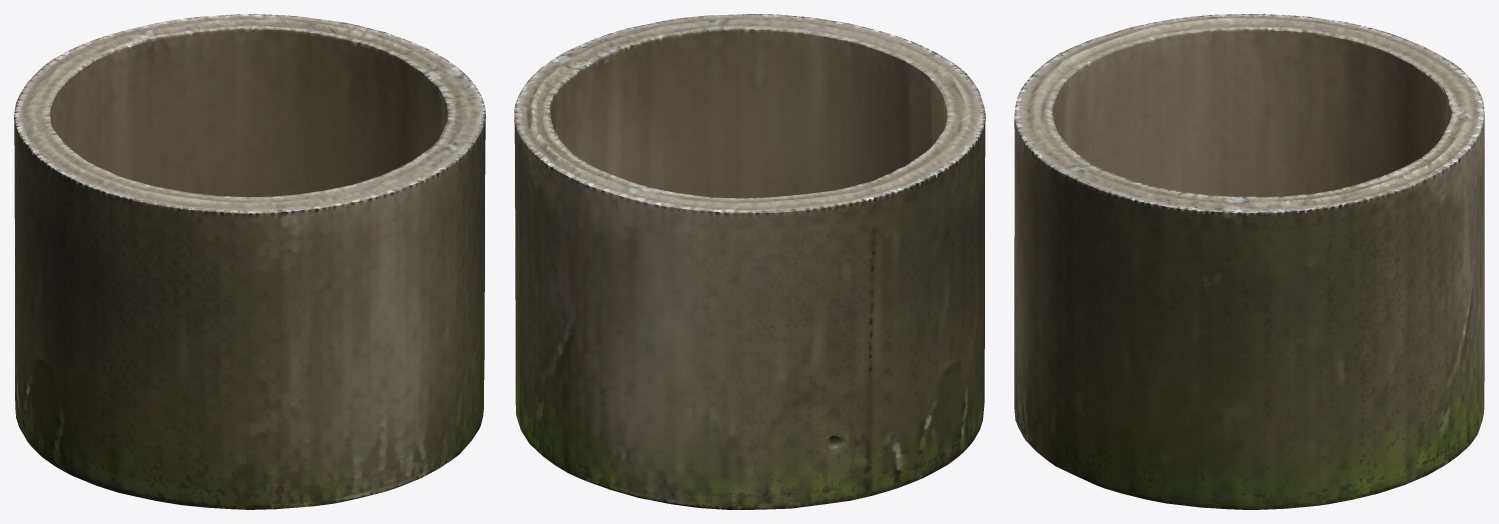
Rendered from pipe-concrete.glb.
3 renders of one model, left to right at view 1: azimuth 30°, elevation 25°; view 2: azimuth 150°, elevation 25°; view 3: azimuth 270°, elevation 25°, orthographic.
Parts seen in each view (by area): view 1: pipe-ring; view 2: pipe-ring; view 3: pipe-ring.
Boxes of the visible parts, x1,y1,x2,y2 form: pipe-ring: [14, 14, 485, 509]; pipe-ring: [514, 14, 985, 509]; pipe-ring: [1014, 14, 1484, 509].
Size of the model in its own units: 1.27 by 0.8999 by 1.27.
1 material, 1 textured.
